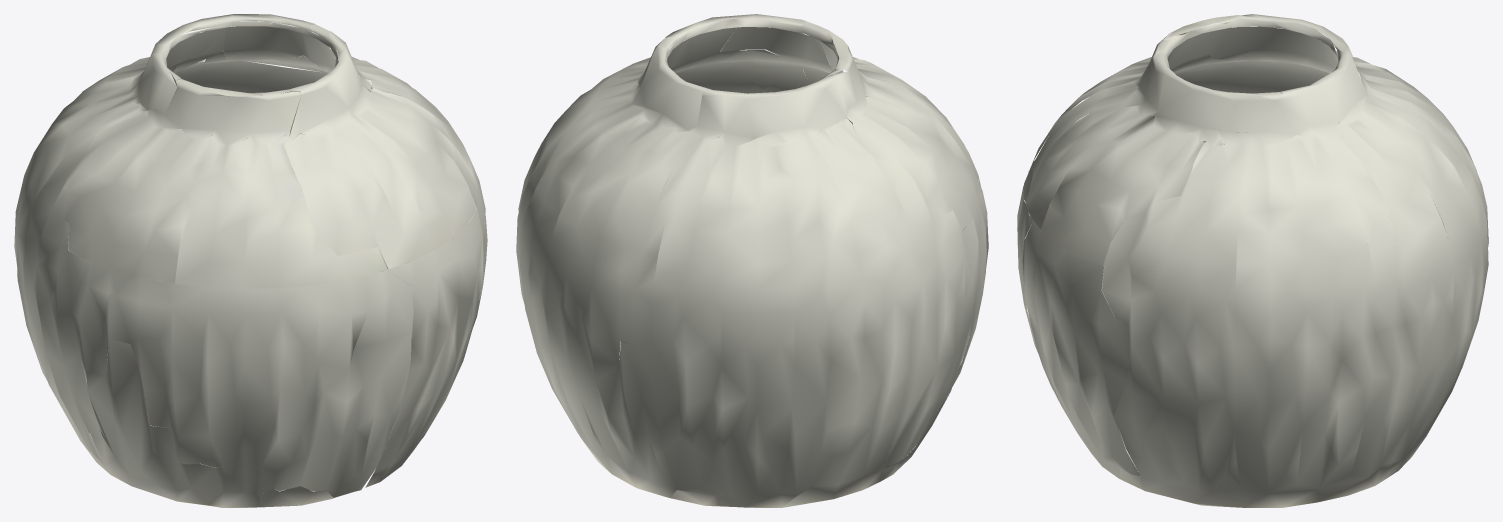
3 renders of one model, left to right at view 1: azimuth 30°, elevation 25°; view 2: azimuth 150°, elevation 25°; view 3: azimuth 270°, elevation 25°, orthographic.
Visible parts, largest first — view 1: pelarbjork-vase-14.001; view 2: pelarbjork-vase-14.001; view 3: pelarbjork-vase-14.001.
Part boxes in pixels (box(x1,y1,x2,y2)): pelarbjork-vase-14.001: box(14, 14, 487, 507); pelarbjork-vase-14.001: box(516, 14, 988, 507); pelarbjork-vase-14.001: box(1017, 14, 1488, 507).
Size of the model in its own units: 0.1533 by 0.1386 by 0.1532.
2 materials, 2 textured.
